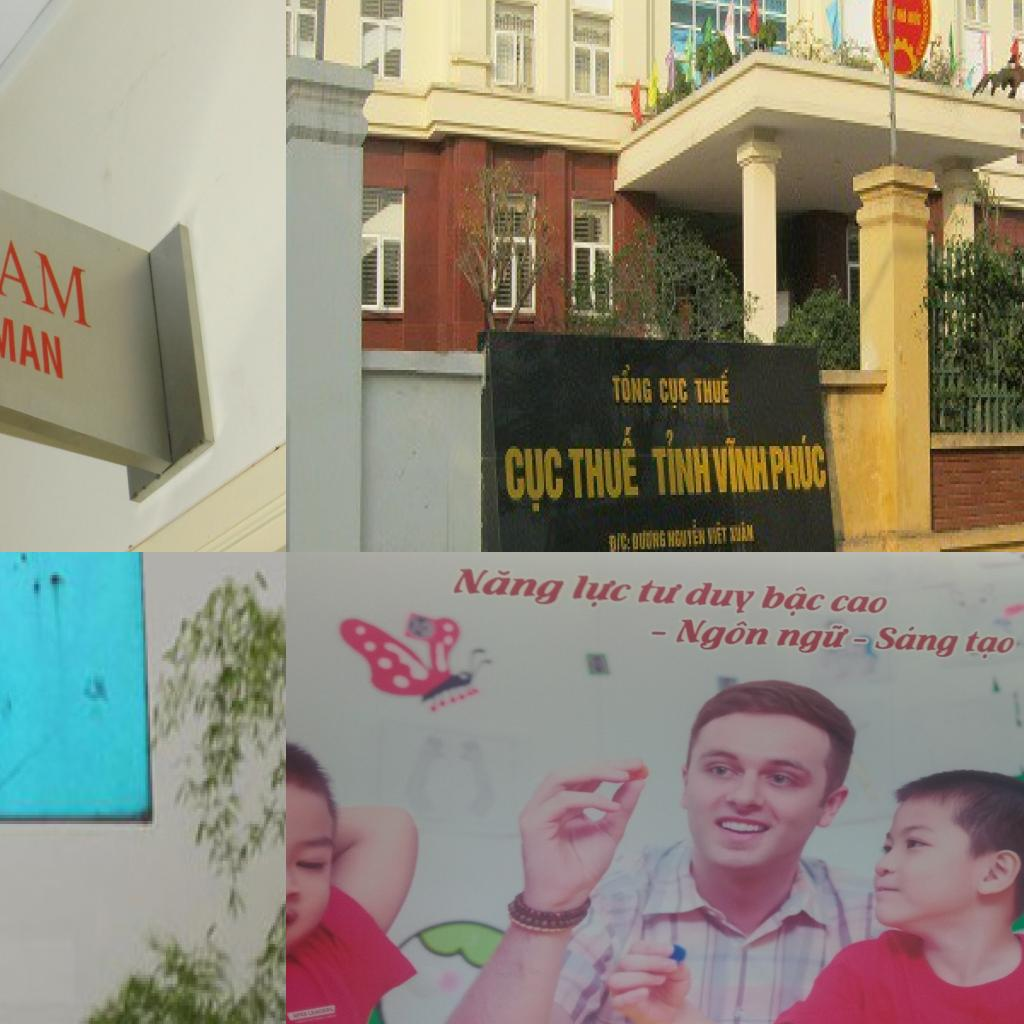text: (0, 215, 92, 332), (448, 562, 571, 608), (566, 427, 638, 503), (0, 309, 64, 383), (505, 440, 566, 516), (650, 427, 713, 498), (711, 432, 771, 498), (670, 616, 773, 653), (869, 621, 964, 661), (768, 432, 829, 492), (770, 622, 858, 659), (679, 578, 758, 616), (566, 570, 638, 611), (755, 582, 831, 620), (959, 629, 1020, 662), (611, 365, 653, 408), (826, 590, 892, 617), (633, 576, 688, 606), (692, 367, 732, 408), (657, 370, 691, 413), (667, 517, 706, 549), (633, 527, 669, 552), (728, 516, 756, 546), (704, 517, 728, 549), (607, 530, 632, 552), (306, 1004, 334, 1018), (289, 1010, 309, 1020), (851, 636, 873, 645), (648, 628, 672, 636)
